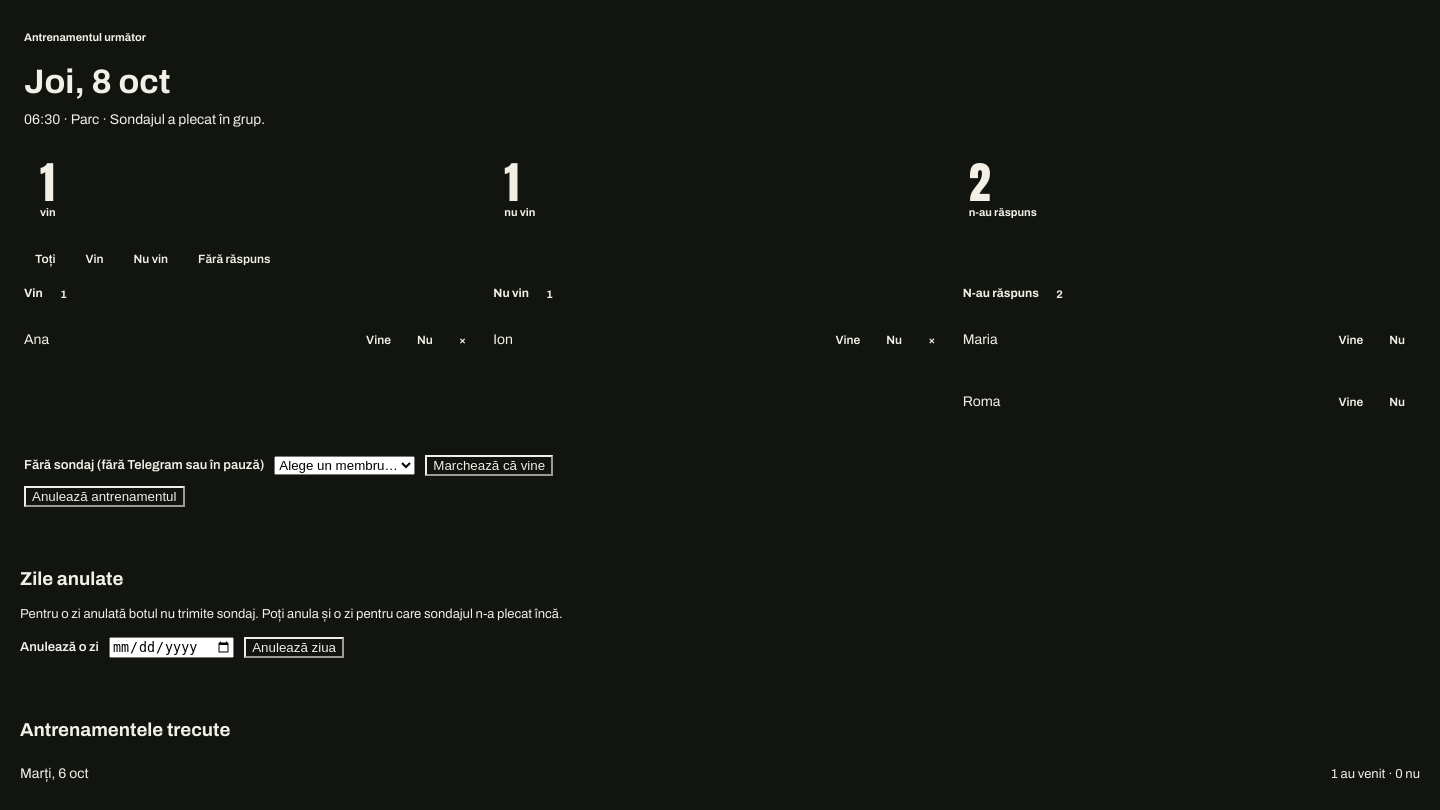
it: Prezențe — zilele anulate și istoricul › formularul trece prin aceeași confirmare când ziua aleasă are sondajul plecat
Expected: the heading "Joi, 8 oct" is shown, [24,63,170,100]
Type "2026-10-08" into the date field labelled "Anulează o zi".
click(172, 648); type("2026-10-08")  # box [109,637,234,658]
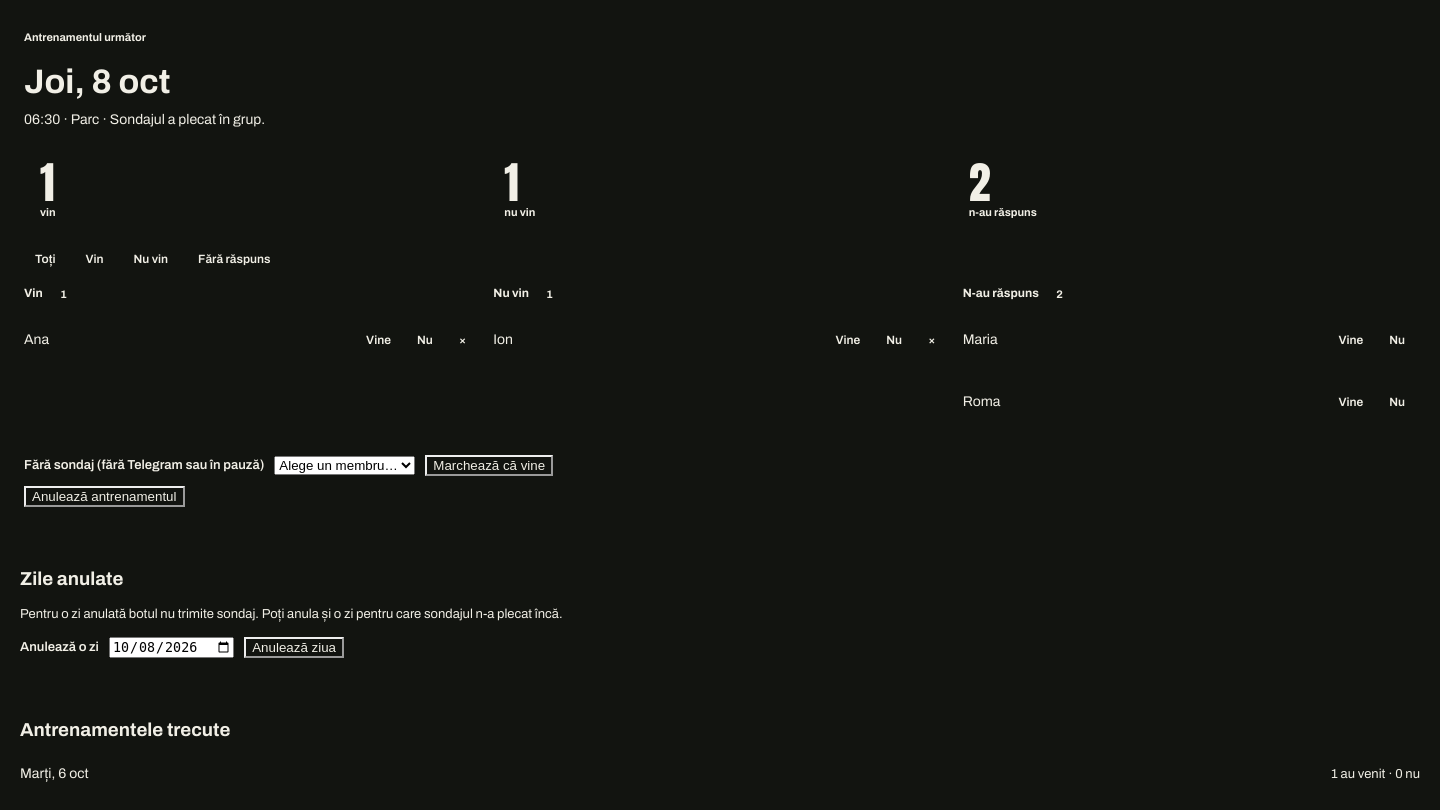
Click the button "Anulează ziua".
click(294, 648)  # box [244,637,344,658]
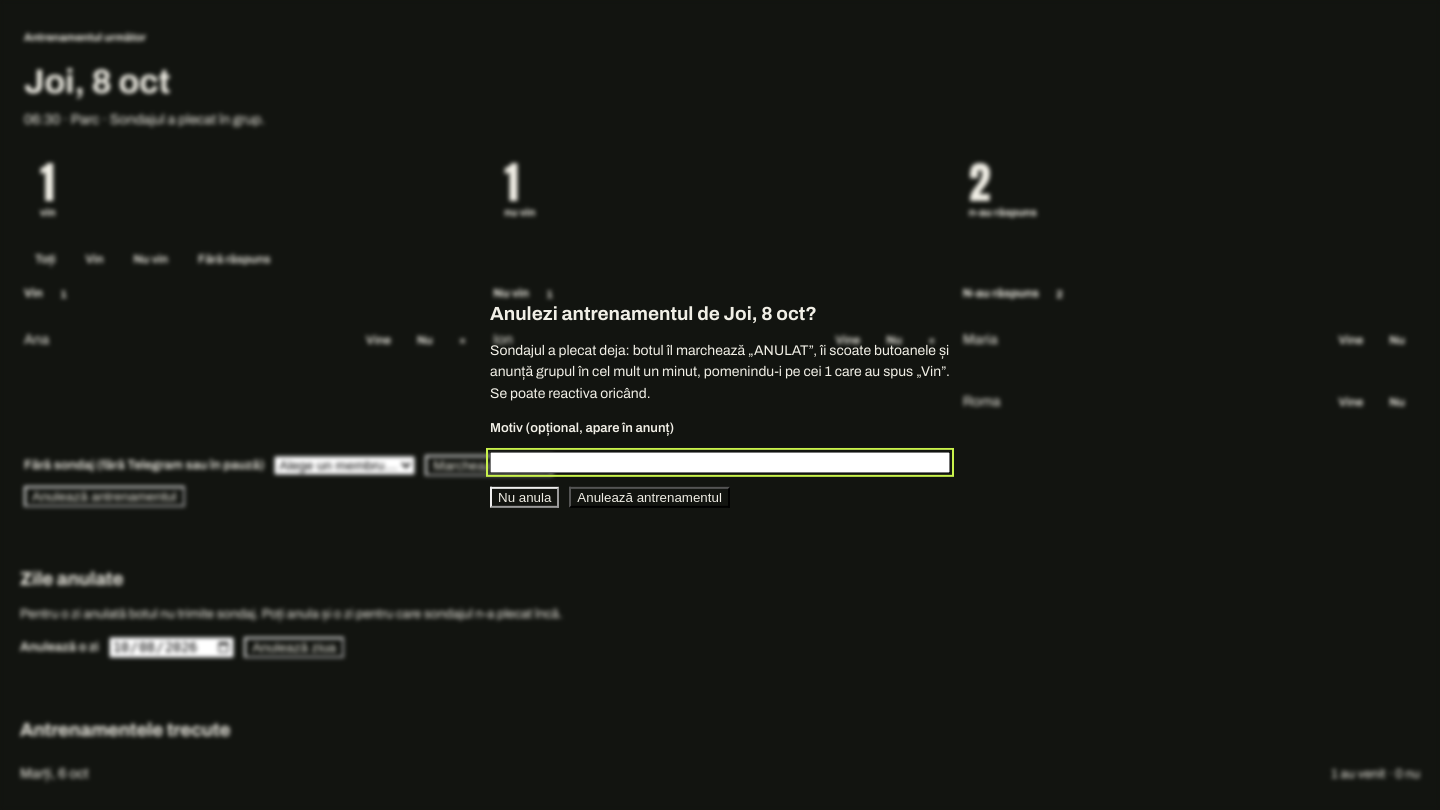
Now the dialog shows "anunță grupul", box [490,343,950,379]
